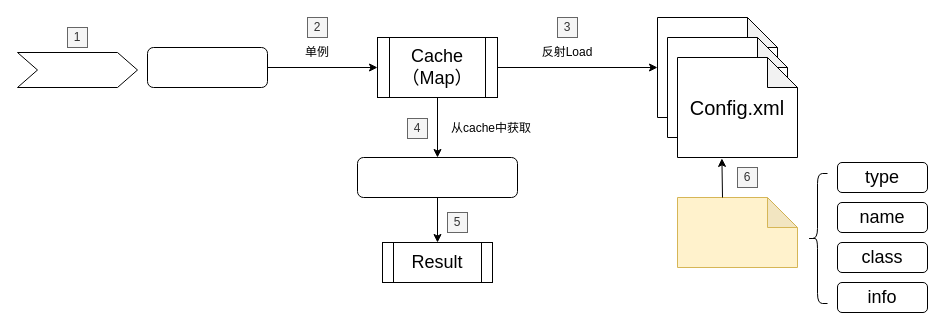
Some shapes in this 945 by 330 pixel diagram are drawn without their labels. Each missing label, with the centre of its shape:
"Context" belongs at (x=207, y=67).
"Job Analysis Task" belongs at (x=437, y=177).
"New Config.xml" belongs at (x=737, y=232).
"Project Start" belongs at (x=77, y=70).
